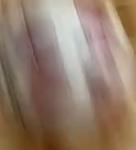Sports-Ball: (8, 5, 123, 118)
